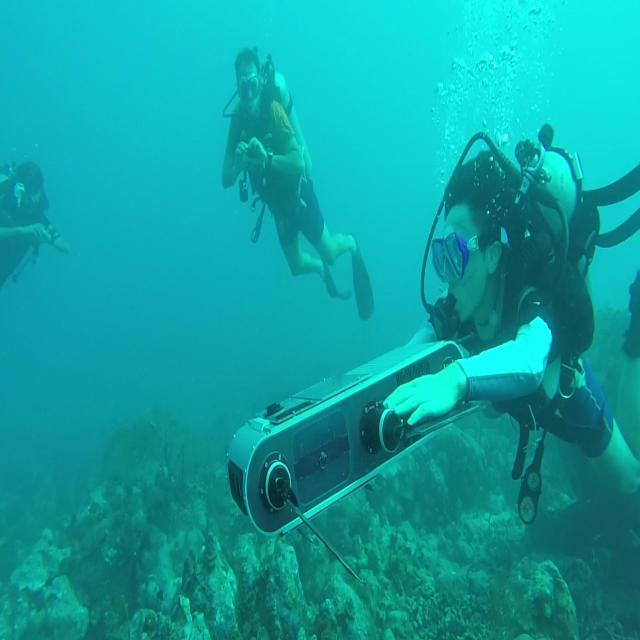human: (226, 128, 638, 546), (221, 45, 375, 322), (0, 158, 69, 289)
